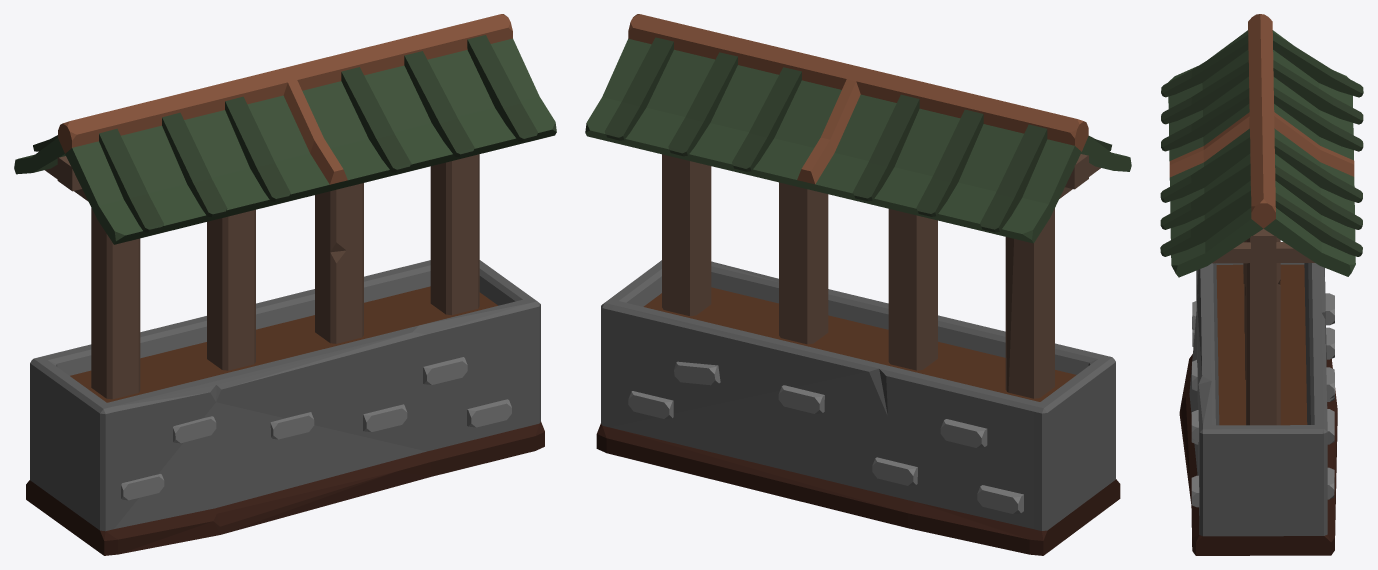
Rendered from GardenWall_FlowerPlace Asia.fbx.
3 renders of one model, left to right at view 1: azimuth 30°, elevation 25°; view 2: azimuth 150°, elevation 25°; view 3: azimuth 270°, elevation 25°, orthographic. The views are drawn at different scales.
Visible parts, largest first — view 1: GardenWall_FlowerPlace; view 2: GardenWall_FlowerPlace; view 3: GardenWall_FlowerPlace.
Part boxes in pixels (x1=…): GardenWall_FlowerPlace: x1=14, y1=14, x2=556, y2=555; GardenWall_FlowerPlace: x1=585, y1=14, x2=1131, y2=555; GardenWall_FlowerPlace: x1=1160, y1=14, x2=1363, y2=555.
Bounding box in the file's own units: 3.24 × 2.82 × 1.47.
